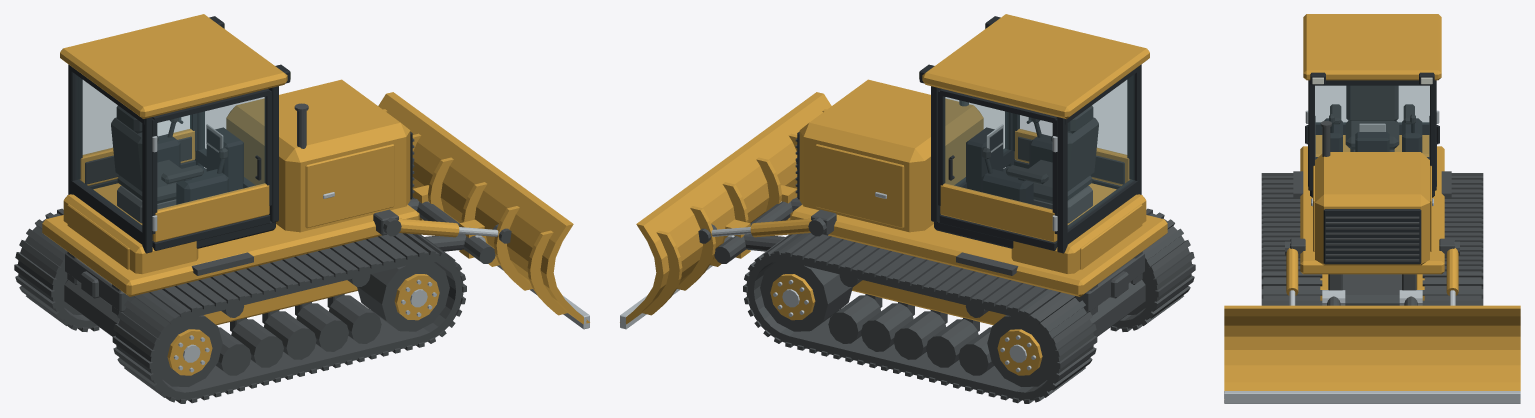
3 views of the same model, side by side, from view 1: azimuth 30°, elevation 25°; view 2: azimuth 150°, elevation 25°; view 3: azimuth 270°, elevation 25° (orthographic). The views are drawn at different scales.
Visible parts, largest first — view 1: cab_roof, right_continuous_track, engine_block_cover, blade_moldboard, door_glass_-1, chassis_deck, cab_glazing_-1.34, engine_service_panel_-1, door_lower_-1, right_endwheel_1, rear_body, cab_glazing_-0.04 (+37 smaller); view 2: cab_roof, engine_block_cover, left_continuous_track, blade_moldboard, door_glass_1, chassis_deck, cab_glazing_-1.34, engine_service_panel_1, door_lower_1, left_endwheel_1, rear_body, cab_glazing_-0.04 (+37 smaller); view 3: blade_moldboard, cab_roof, engine_block_cover, cab_glazing_-0.04, nose_radiator_backing, blade_cutting_edge, chassis_deck, seat_back, belly_pan, right_continuous_track, left_continuous_track, cab_glazing_-1.34 (+30 smaller).
Part boxes in pixels (<box>): cab_roof: <box>60,14,287,118</box>; right_continuous_track: <box>116,233,463,400</box>; engine_block_cover: <box>226,79,410,232</box>; blade_moldboard: <box>378,92,589,324</box>; door_glass_-1: <box>157,97,265,209</box>; chassis_deck: <box>42,204,419,296</box>; cab_glazing_-1.34: <box>76,75,141,227</box>; engine_service_panel_-1: <box>305,144,394,228</box>; door_lower_-1: <box>152,183,269,242</box>; right_endwheel_1: <box>357,261,449,331</box>; rear_body: <box>63,183,198,273</box>; cab_glazing_-0.04: <box>203,97,263,185</box>; cab_roof: <box>922,14,1149,118</box>; engine_block_cover: <box>799,79,983,232</box>; left_continuous_track: <box>746,233,1093,400</box>; blade_moldboard: <box>620,92,831,324</box>; door_glass_1: <box>944,97,1052,209</box>; chassis_deck: <box>790,204,1167,296</box>; cab_glazing_-1.34: <box>1068,75,1133,227</box>; engine_service_panel_1: <box>815,144,904,228</box>; door_lower_1: <box>940,183,1057,242</box>; left_endwheel_1: <box>760,261,852,331</box>; rear_body: <box>1011,183,1146,273</box>; cab_glazing_-0.04: <box>946,97,1006,185</box>; blade_moldboard: <box>1224,305,1520,399</box>; cab_roof: <box>1303,14,1441,80</box>; engine_block_cover: <box>1315,152,1429,265</box>; cab_glazing_-0.04: <box>1315,86,1429,159</box>; nose_radiator_backing: <box>1323,209,1421,264</box>; blade_cutting_edge: <box>1224,391,1520,403</box>; chassis_deck: <box>1300,146,1444,274</box>; seat_back: <box>1346,85,1398,121</box>; belly_pan: <box>1343,274,1401,305</box>; right_continuous_track: <box>1263,179,1320,300</box>; left_continuous_track: <box>1424,179,1481,300</box>; cab_glazing_-1.34: <box>1315,86,1429,122</box>.
Size of the model in its own units: 4.31 by 2.77 by 3.22.
